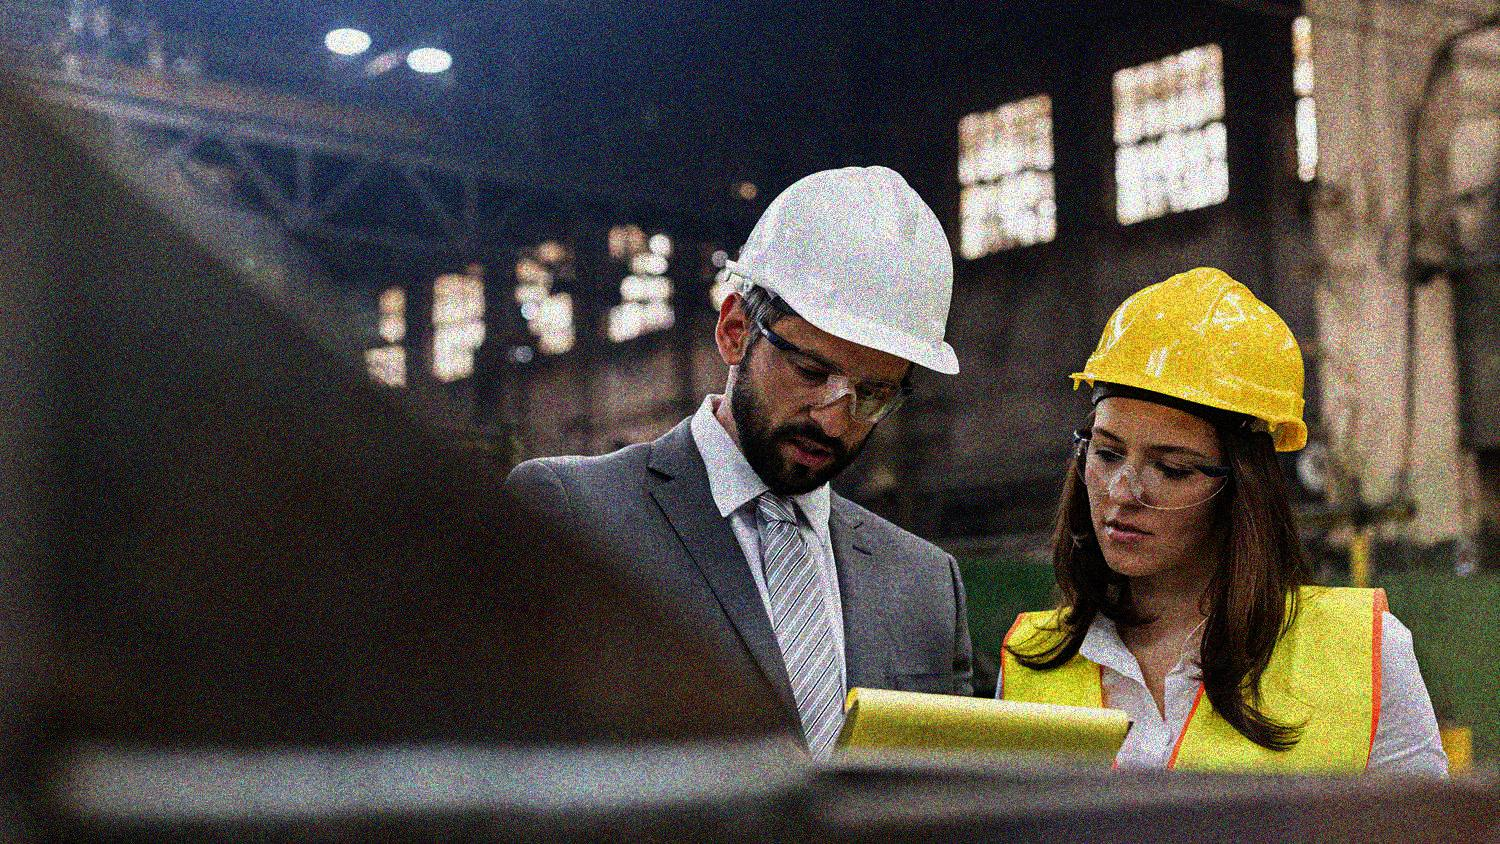helmet: (703, 159, 966, 483), (1066, 267, 1312, 582)
